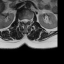CCS_normal: (24, 16, 26, 26)
LFS_normal: (28, 18, 30, 23)
LLS_normal: (26, 17, 28, 24)
RFS_normal: (20, 17, 22, 23)
RLS_normal: (22, 17, 24, 24)
